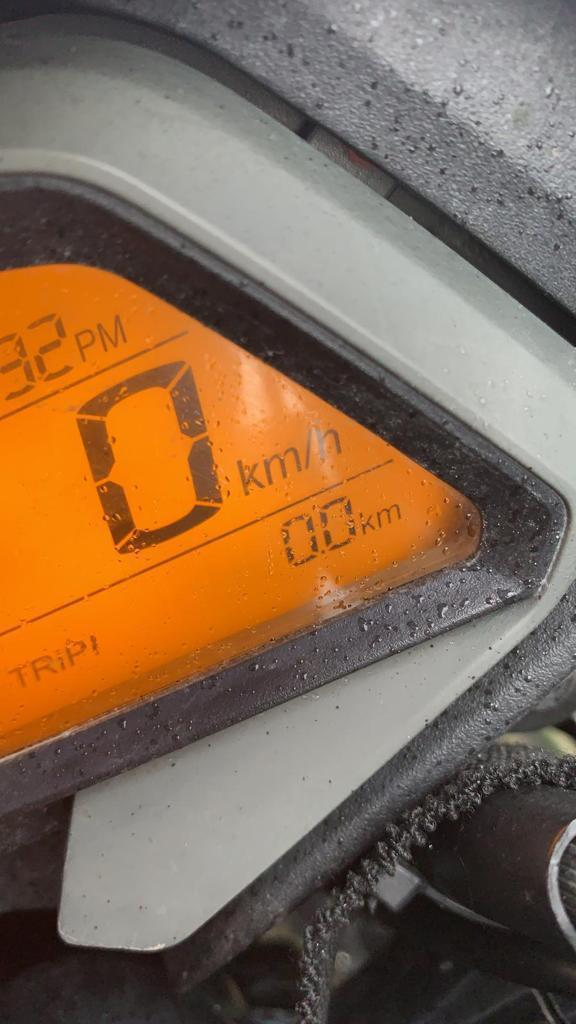,: (320, 544, 326, 558)
0: (74, 364, 221, 556), (319, 495, 358, 551), (279, 513, 318, 565)
1: (88, 628, 105, 660)
2: (26, 308, 74, 381)
9: (1, 329, 34, 401)
X: (262, 448, 301, 483), (314, 421, 346, 461), (235, 454, 265, 495), (95, 314, 129, 350), (73, 327, 96, 361), (29, 656, 57, 680), (376, 505, 404, 527), (65, 638, 87, 666), (302, 425, 315, 470), (6, 664, 27, 687), (359, 509, 376, 534), (54, 645, 66, 670)
odometer: (0, 255, 489, 767)
